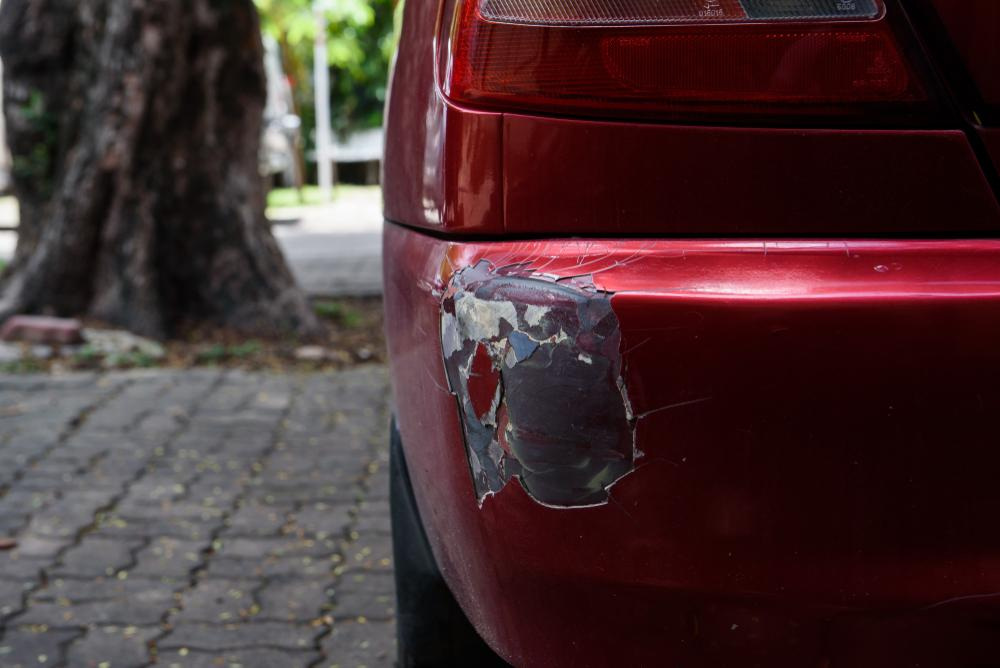scratch: (428, 248, 654, 512)
